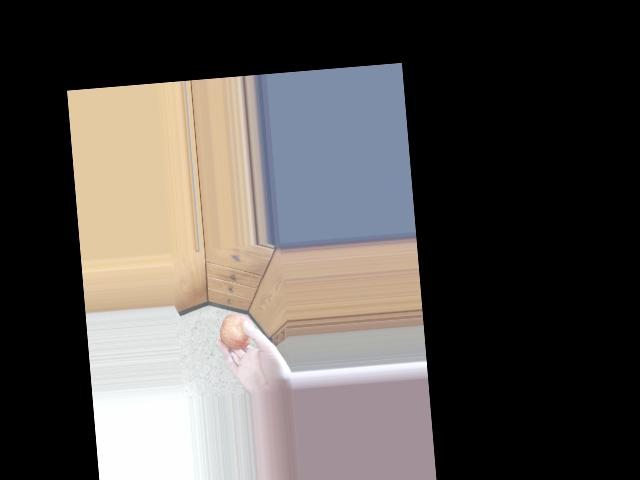apple: (215, 307, 261, 357)
